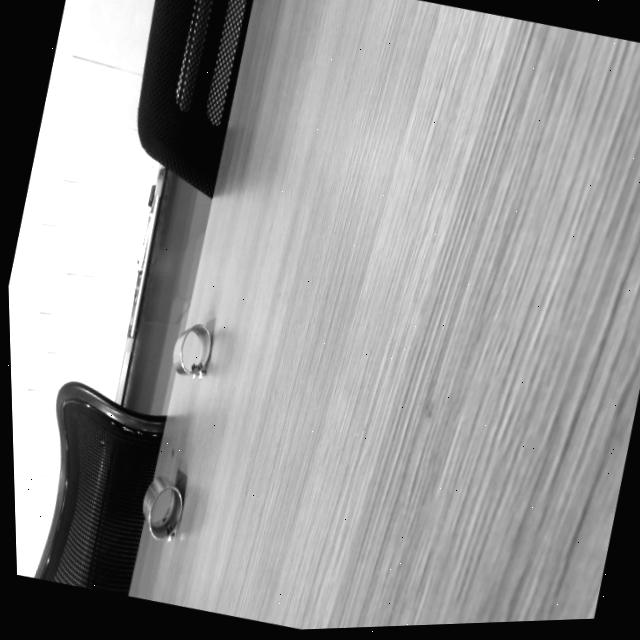Co_Lon: (137, 474, 187, 541)
Co_Nho: (168, 318, 217, 379)
